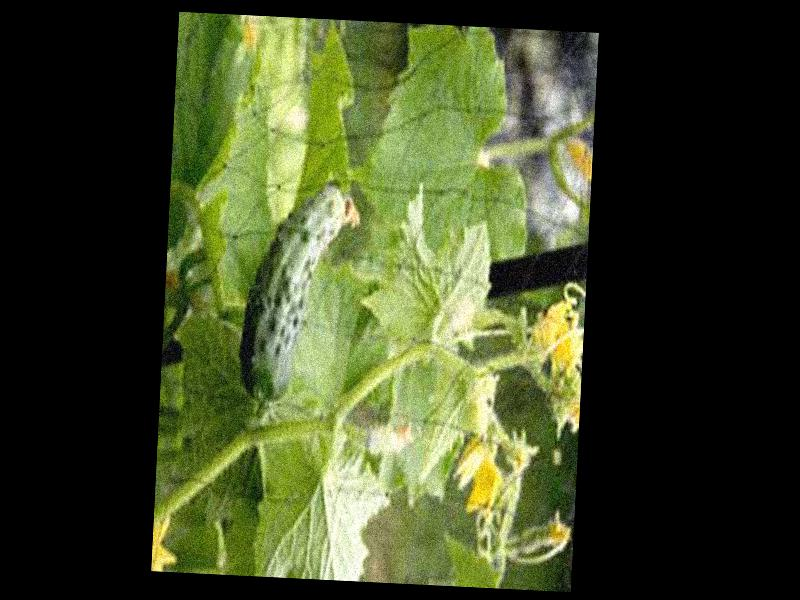Cucumber: (238, 178, 362, 410)
